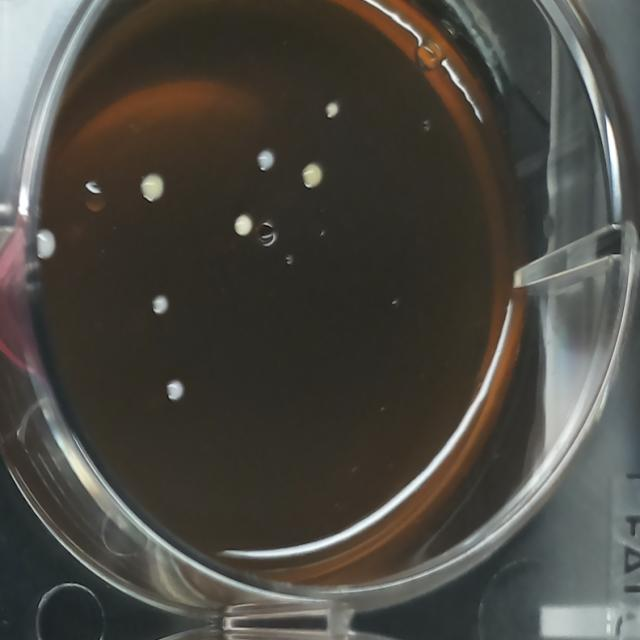Staphylococcus: (138, 169, 168, 208), (31, 226, 60, 264), (298, 160, 325, 192), (162, 376, 188, 407), (148, 288, 172, 320), (231, 211, 255, 242), (254, 146, 278, 176), (322, 97, 342, 122)
Vibrio: (79, 177, 110, 216)
